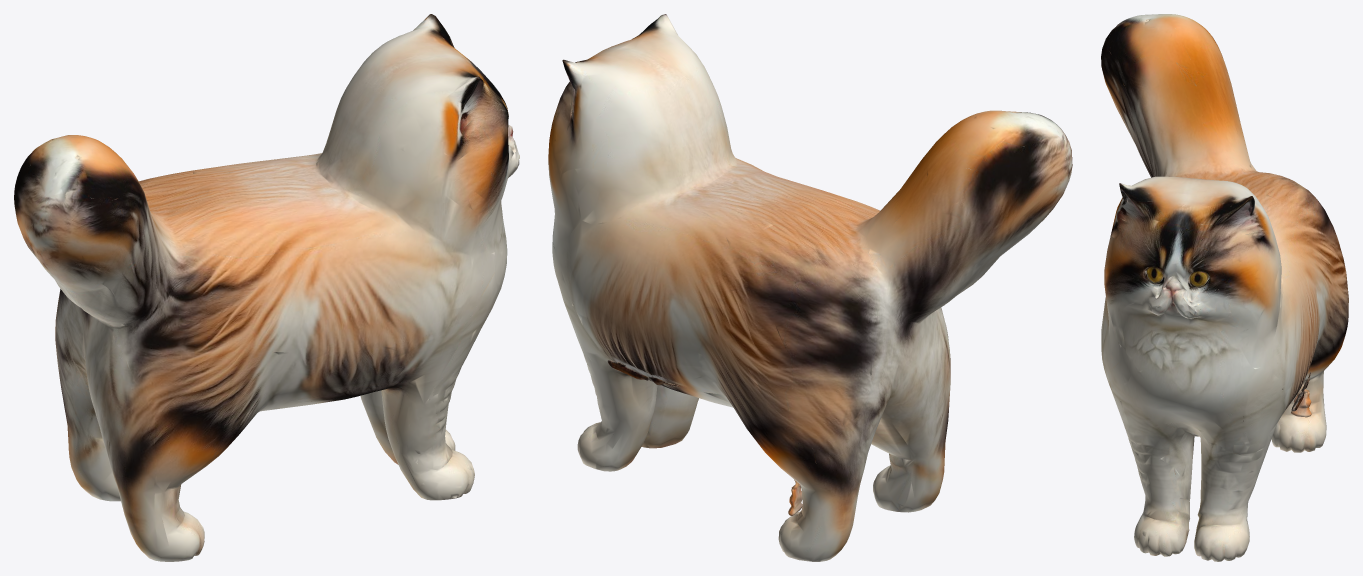
Rendered from EMPTANG.glb.
3 views of the same model, side by side, from view 1: azimuth 30°, elevation 25°; view 2: azimuth 150°, elevation 25°; view 3: azimuth 270°, elevation 25° (orthographic). The views are drawn at different scales.
Visible parts, largest first — view 1: fit; view 2: fit; view 3: fit.
Boxes of the visible parts, box(x1,y1,x2,y2) form: fit: box(14, 14, 519, 561); fit: box(548, 14, 1072, 561); fit: box(1101, 14, 1348, 561).
Size of the model in its own units: 1.21 by 1 by 0.5982.
1 material, 1 textured.
